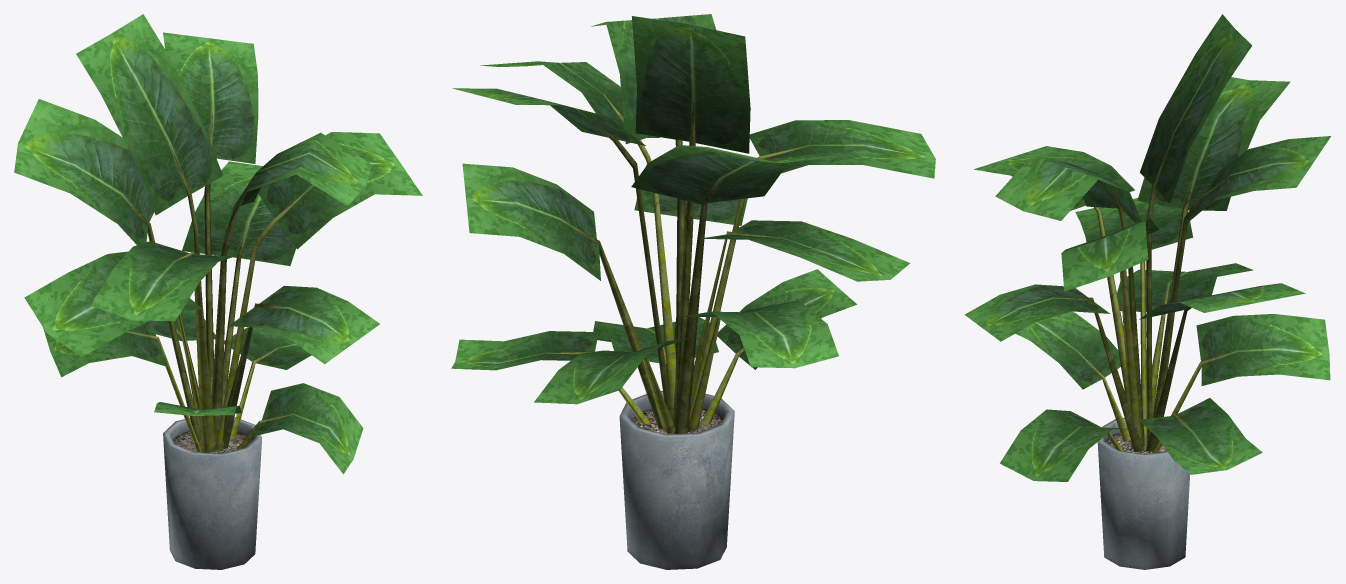
Rendered from Furniture_foliageplant_04_LOD1 #39125.fbx.
The picture shows the model from 3 angles, left to right: view 1: azimuth 30°, elevation 25°; view 2: azimuth 150°, elevation 25°; view 3: azimuth 270°, elevation 25°; orthographic projection. The views are drawn at different scales.
Visible parts, largest first — view 1: F_foliageplant_04_m2, F_foliageplant_04_m1; view 2: F_foliageplant_04_m2, F_foliageplant_04_m1; view 3: F_foliageplant_04_m2, F_foliageplant_04_m1.
Boxes of the visible parts, <box> form: F_foliageplant_04_m2: <box>14,14,422,474</box>; F_foliageplant_04_m1: <box>163,417,262,569</box>; F_foliageplant_04_m2: <box>451,14,935,433</box>; F_foliageplant_04_m1: <box>619,391,734,569</box>; F_foliageplant_04_m2: <box>964,14,1330,481</box>; F_foliageplant_04_m1: <box>1097,417,1190,569</box>.
Size of the model in its own units: 0.8388 by 1.17 by 0.7776.
Materials: 2 (2 with a texture image).
